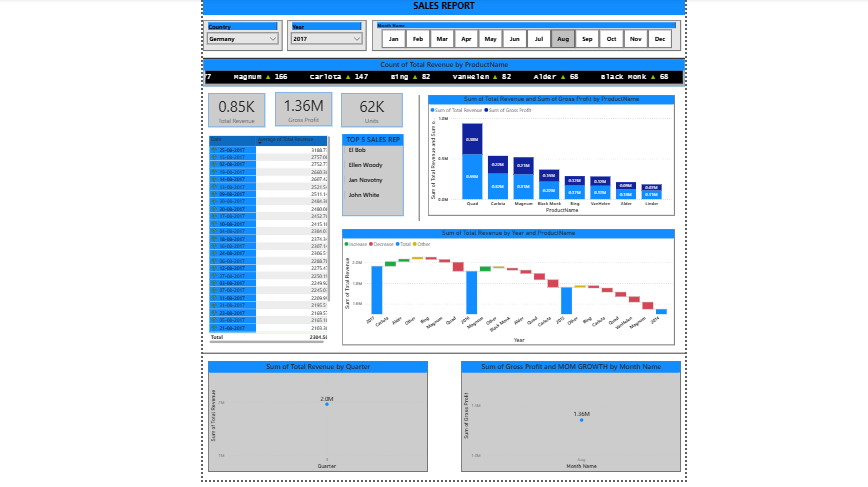

This screenshot's page, from the dashboard's own definition file:
{"tool":"powerbi","page":{"name":"Page 1","canvas":[1300,1300],"ordinal":0},"visuals":[{"type":"textbox","box":[0,0,1300,46],"z":0},{"type":"slicer","fields":{"Values":["Geography.Country"]},"box":[0,58.4,214,83.1],"z":1000},{"type":"slicer","fields":{"Values":["DateMaster.Year"]},"box":[226.4,58.4,214,83.1],"z":2000},{"type":"slicer","fields":{"Values":["DateMaster.Month Name"]},"box":[454.6,58.4,833.1,83.1],"z":3000},{"type":"shape","box":[0,141.5,1300,46],"z":4000},{"type":"shape","box":[0,210.5,1300,51.3],"z":5000},{"type":"card","fields":{"Values":["CountNonNull(Sales.Total Revenue)"]},"box":[14.1,256.5,153.9,92],"z":6000},{"type":"card","fields":{"Values":["Sum(Sales.Gross Profit)"]},"box":[194.6,254.7,153.9,92],"z":7000},{"type":"card","fields":{"Values":["Sum(Sales.Units)"]},"box":[371.4,256.5,166.3,92],"z":8000},{"type":"shape","box":[557.1,261.8,49.5,339.6],"z":9000},{"type":"multiRowCard","title":"TOP 5 SALES REP","fields":{"Values":["Sales rep.Sales Rep Name"]},"box":[375,366.1,166.3,221.1],"z":10000},{"type":"ScrollingTextVisual1448795304508","fields":{"Category":["Product.ProductName"],"Measure Deviation":["CountNonNull(Sales.Total Revenue)"]},"box":[0,164.5,1300,72.5],"z":11000},{"type":"columnChart","fields":{"Category":["Product.ProductName"],"Y":["Sum(Sales.Total Revenue)","Sum(Sales.Gross Profit)"]},"box":[606.7,261.8,665,325.4],"z":12000},{"type":"waterfallChart","fields":{"Category":["DateMaster.Year"],"Breakdown":["Product.ProductName"],"Y":["Sum(Sales.Total Revenue)"]},"box":[375,622.6,896.7,313.1],"z":13000},{"type":"shape","box":[0,935.6,1300,44.2],"z":14000},{"type":"lineChart","fields":{"Category":["DateMaster.Quarter"],"Y":["Sum(Sales.Total Revenue)"]},"box":[14.1,979.9,592.5,298.9],"z":15000},{"type":"lineChart","fields":{"Category":["DateMaster.Month Name"],"Y":["Sum(Sales.Gross Profit)"]},"box":[695.1,979.9,592.5,298.9],"z":16000},{"type":"tableEx","fields":{"Values":["DateMaster.Date","Avg(Sales.Total Revenue)"]},"box":[10.6,366.1,337.8,569.5],"z":17000}]}

Visuals, with their boxes in screenshot pixels (x1, y1, x2, y2):
textbox: bbox=(197, 0, 694, 11)
slicer - Geography.Country: bbox=(197, 16, 278, 47)
slicer - DateMaster.Year: bbox=(283, 16, 365, 47)
slicer - DateMaster.Month Name: bbox=(370, 16, 689, 47)
shape: bbox=(197, 47, 694, 65)
shape: bbox=(197, 74, 694, 93)
card - CountNonNull(Sales.Total Revenue): bbox=(202, 91, 261, 126)
card - Sum(Sales.Gross Profit): bbox=(271, 91, 330, 126)
card - Sum(Sales.Units): bbox=(339, 91, 402, 126)
shape: bbox=(410, 93, 429, 223)
"TOP 5 SALES REP" multiRowCard: bbox=(340, 133, 404, 218)
ScrollingTextVisual1448795304508 - Product.ProductName x CountNonNull(Sales.Total Revenue): bbox=(197, 56, 694, 84)
columnChart - Product.ProductName x Sum(Sales.Total Revenue): bbox=(429, 93, 683, 218)
waterfallChart - DateMaster.Year x Product.ProductName: bbox=(340, 231, 683, 351)
shape: bbox=(197, 351, 694, 368)
lineChart - DateMaster.Quarter x Sum(Sales.Total Revenue): bbox=(202, 368, 429, 482)
lineChart - DateMaster.Month Name x Sum(Sales.Gross Profit): bbox=(462, 368, 689, 482)
tableEx - DateMaster.Date x Avg(Sales.Total Revenue): bbox=(201, 133, 330, 351)
